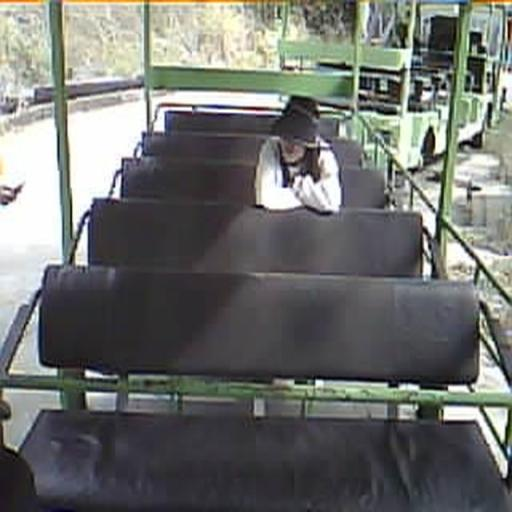persona: (252, 94, 344, 215)
